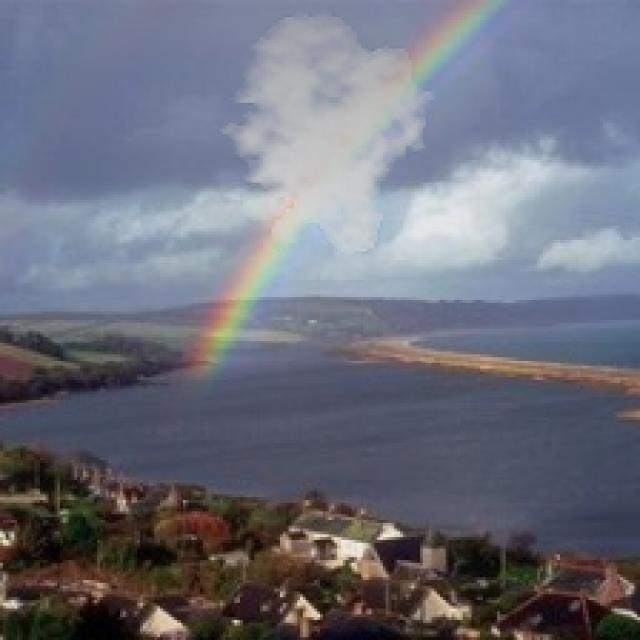Smoke: (208, 11, 441, 258)
